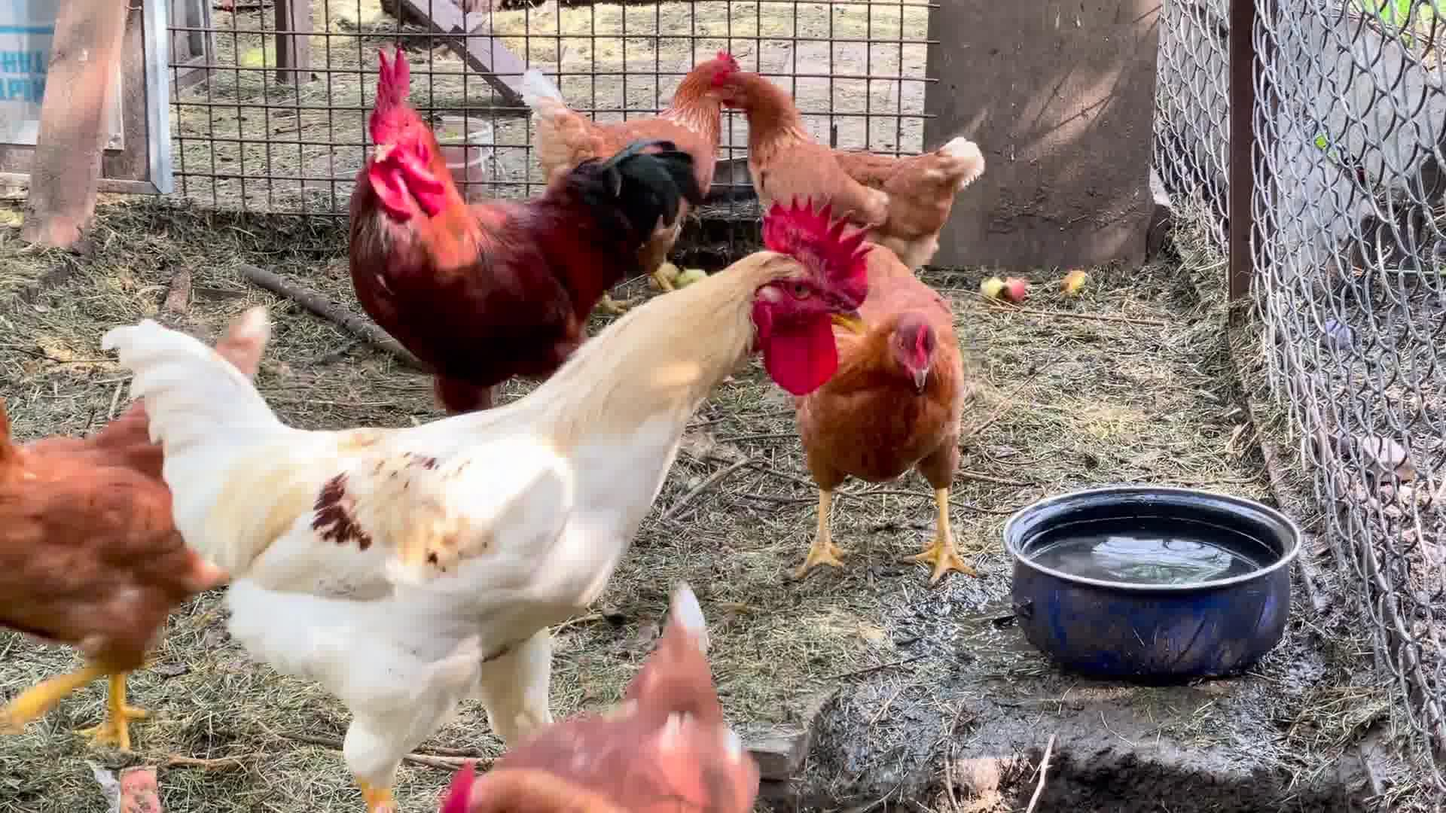Normal: (106, 204, 866, 756), (0, 303, 284, 777), (341, 51, 691, 386), (396, 574, 768, 813), (765, 222, 995, 586), (718, 44, 992, 270), (518, 36, 745, 176)
